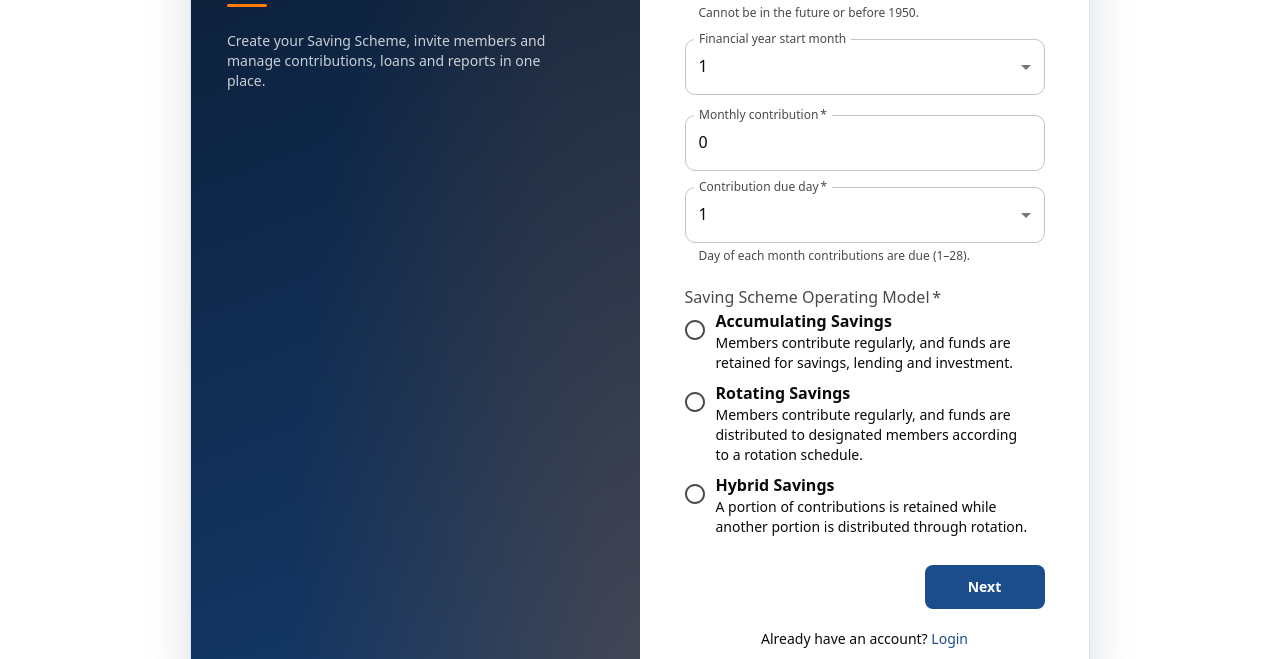
Test: SignupPage onboarding wizard › validates saving scheme details before leaving step 1
(page scrolled)
Click the button "Next". click: (984, 587)
box: [924,565,1044,609]
(page scrolled)
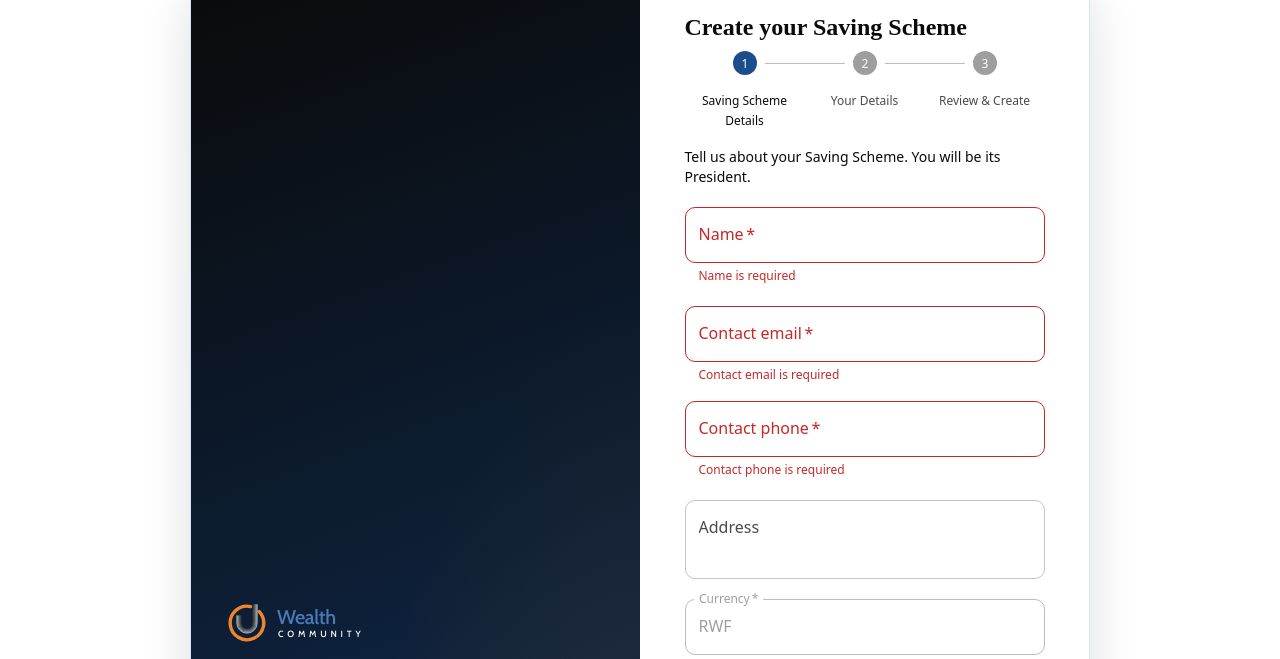
Check: the field labelled "Name *" is shown, box [684,207,1044,263]
Check: the text "Name is required" is shown, box [698,267,796,284]
